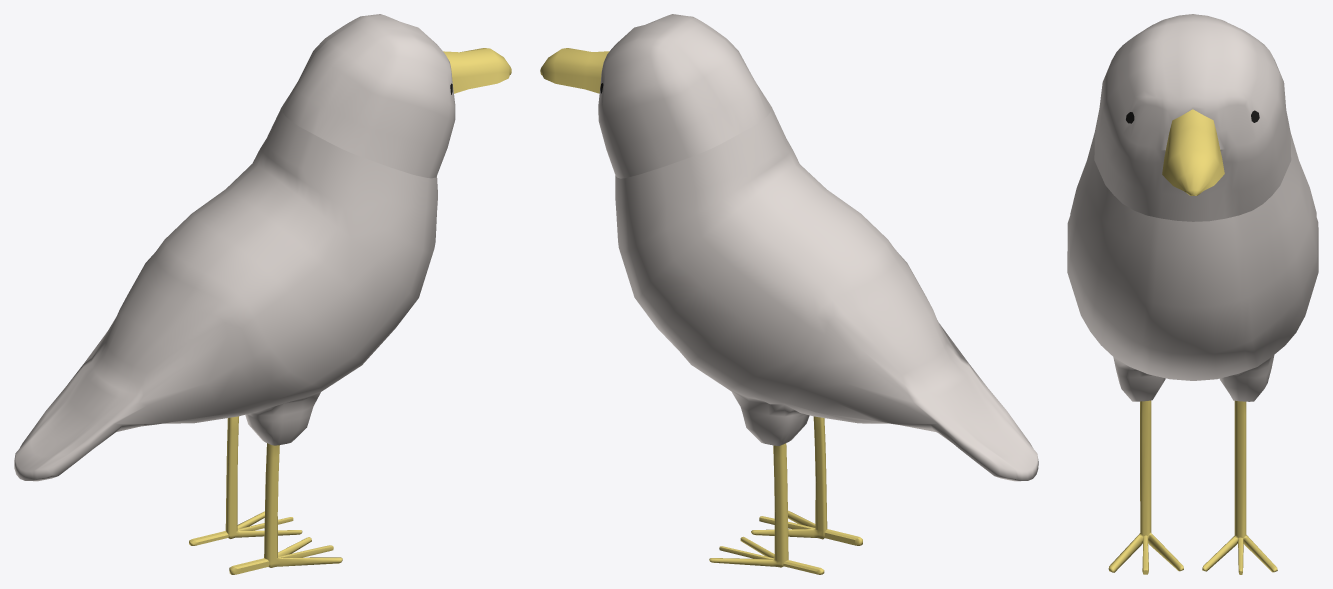
The model's file is atoll_bird_standing.fbx.
The picture shows the model from 3 angles, left to right: view 1: azimuth 30°, elevation 25°; view 2: azimuth 150°, elevation 25°; view 3: azimuth 270°, elevation 25°; orthographic projection. The views are drawn at different scales.
Visible parts, largest first — view 1: bird_standing; view 2: bird_standing; view 3: bird_standing.
Boxes of the visible parts, x1,y1,x2,y2 form: bird_standing: (14, 14, 511, 574); bird_standing: (540, 14, 1038, 574); bird_standing: (1067, 14, 1318, 574).
Bounding box in the file's own units: 0.1845 × 0.1778 × 0.0683.
